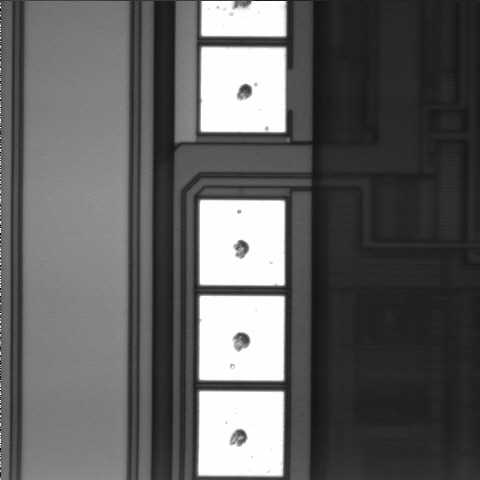pad: (198, 391, 284, 476), (201, 47, 286, 132), (200, 200, 285, 285), (199, 296, 284, 381)
